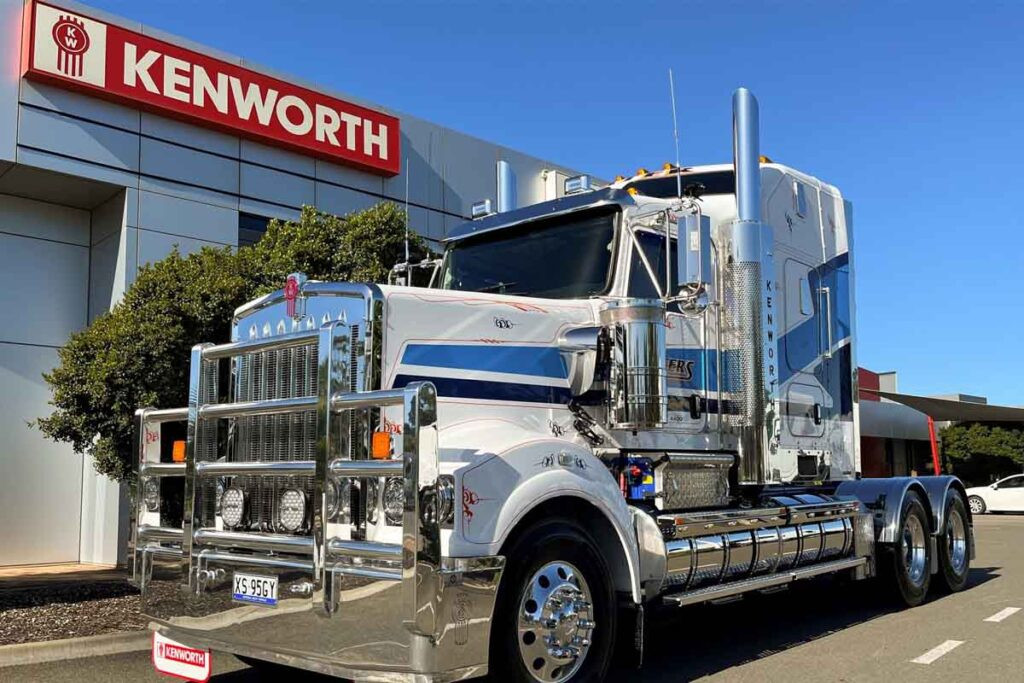truck: (133, 86, 976, 682)
